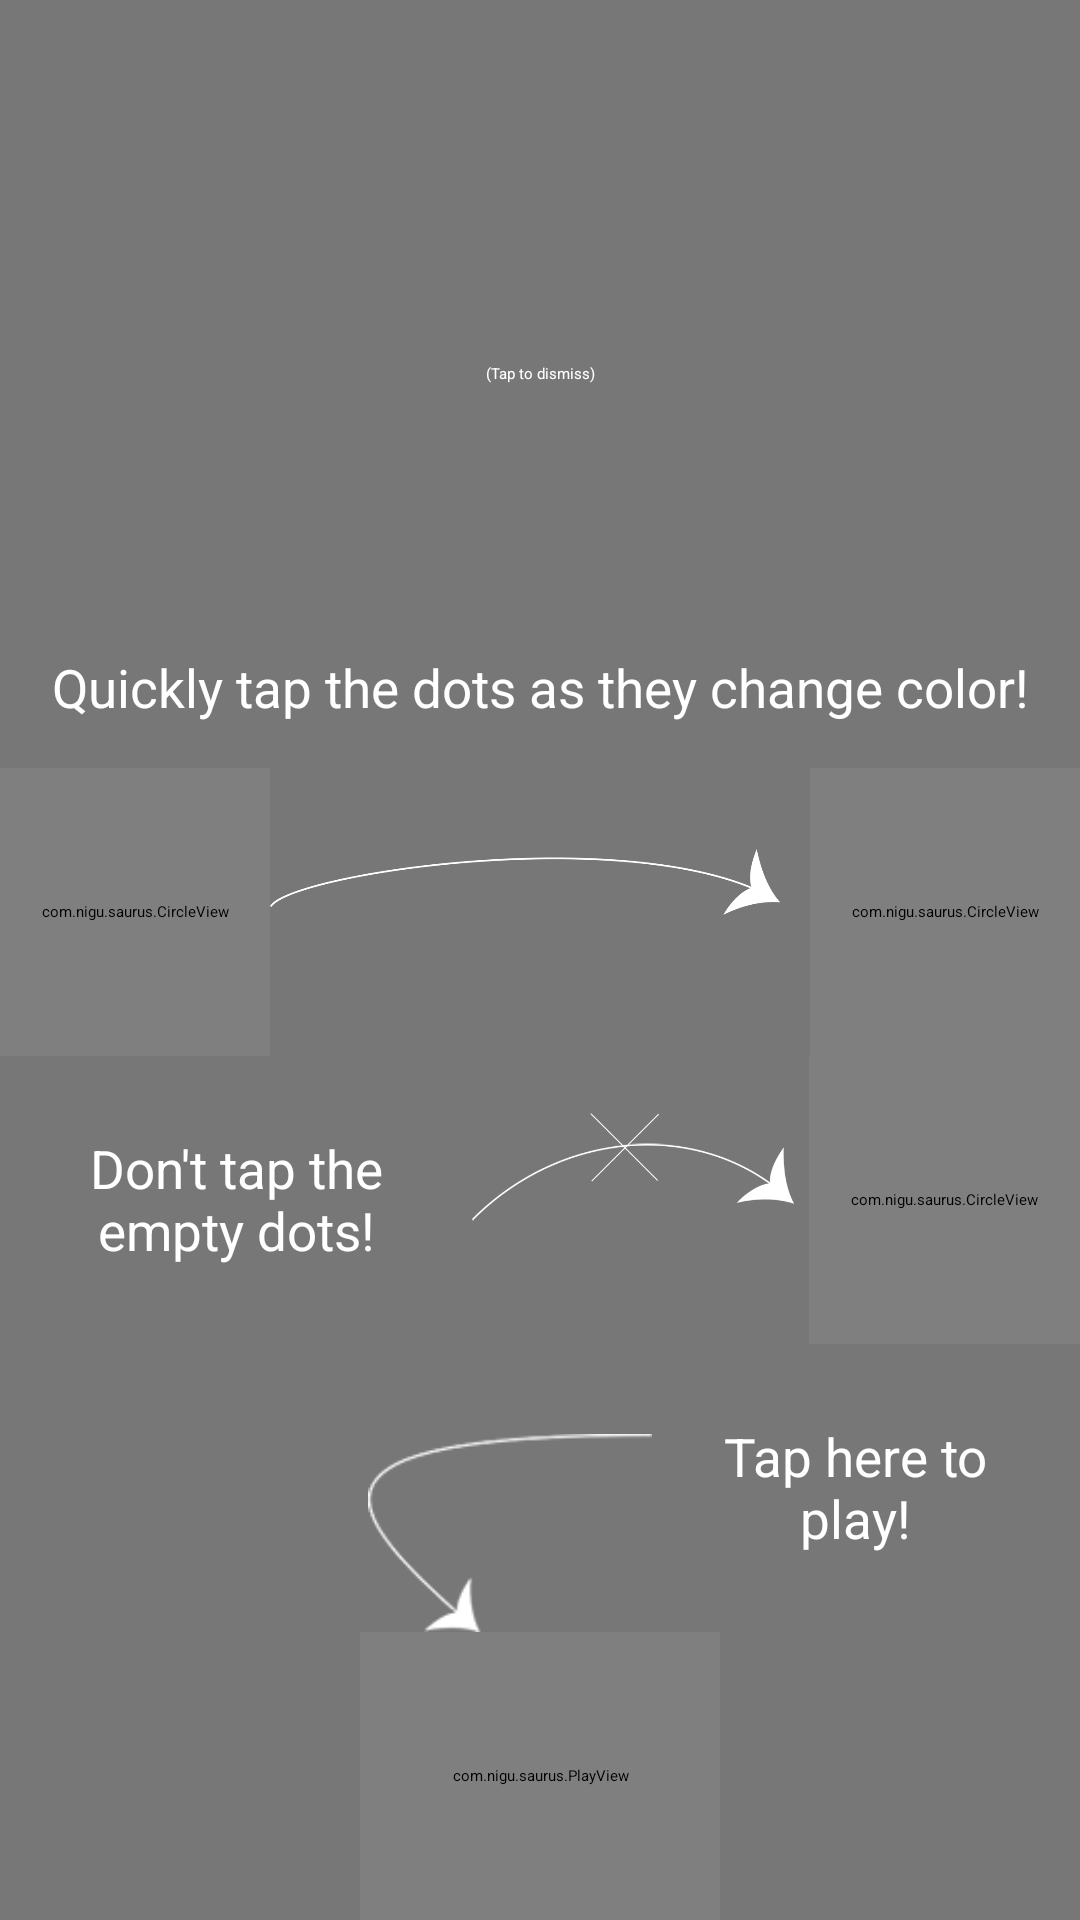

Point at icon controls on the screen. Image size 1080×1920, points as [x,y].
Arrow pointing to blank circle: [633,1167]
Arrow pointing to play button: [510,1533]
